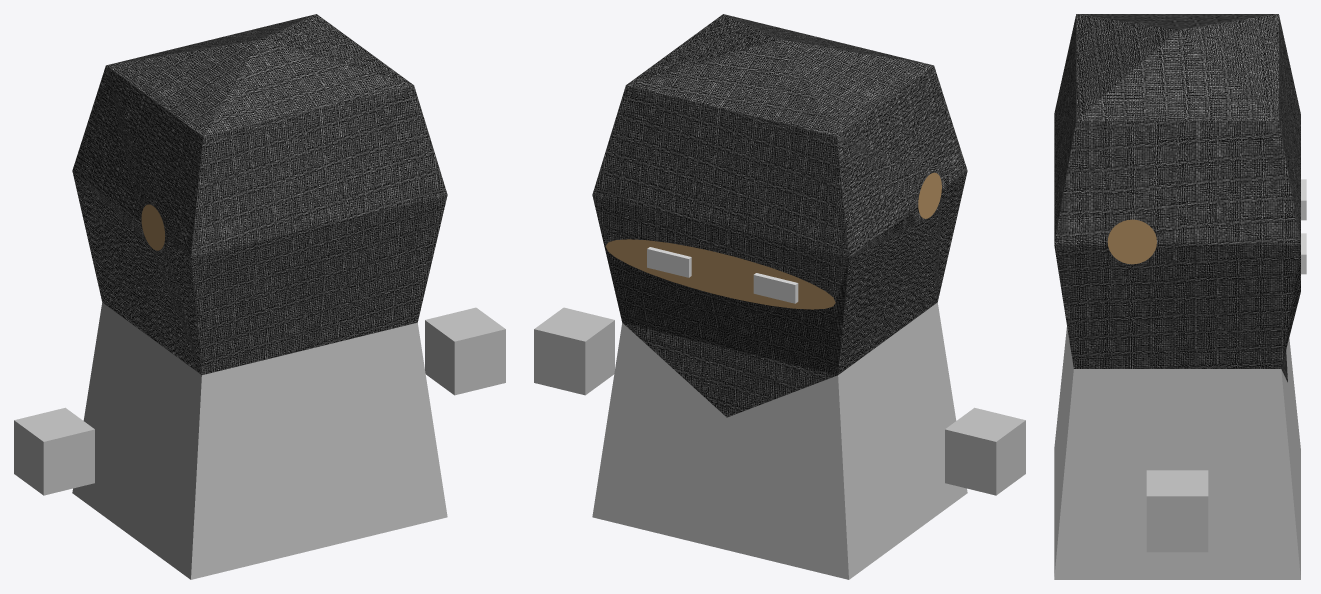
File: enemy-burglar-character.fbx
The picture shows the model from 3 angles, left to right: view 1: azimuth 30°, elevation 25°; view 2: azimuth 150°, elevation 25°; view 3: azimuth 270°, elevation 25°; orthographic projection. The views are drawn at different scales.
Parts seen in each view (by area): view 1: Cube, Cube.002, Cube.001; view 2: Cube, Cube.002, Cube.001; view 3: Cube, Cube.001.
Boxes of the visible parts, bbox=[...] form: Cube: bbox=[72, 14, 447, 579]; Cube.002: bbox=[14, 407, 94, 495]; Cube.001: bbox=[425, 307, 505, 395]; Cube: bbox=[592, 14, 967, 579]; Cube.002: bbox=[945, 407, 1025, 495]; Cube.001: bbox=[534, 307, 614, 395]; Cube: bbox=[1054, 14, 1306, 579]; Cube.001: bbox=[1146, 470, 1208, 552].
Bounding box in the file's own units: 90 × 86.67 × 40.95.
